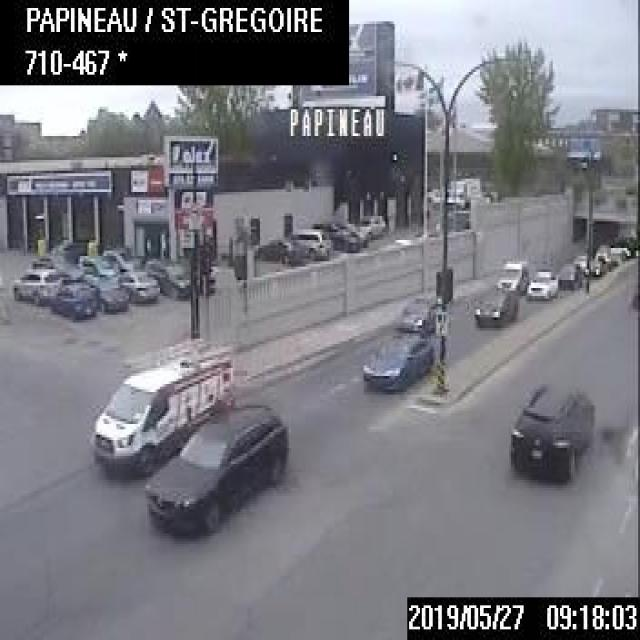vehicle: (87, 333, 236, 476), (141, 400, 289, 540), (507, 379, 595, 480), (360, 329, 434, 392), (469, 286, 519, 326), (50, 279, 94, 321), (82, 273, 127, 314), (11, 265, 58, 303), (146, 257, 189, 298), (114, 269, 162, 305), (314, 218, 362, 249), (287, 226, 331, 259), (398, 291, 433, 331), (252, 237, 303, 264), (493, 258, 525, 296), (442, 175, 481, 205), (524, 267, 558, 299), (76, 252, 117, 275), (554, 261, 582, 290), (357, 211, 383, 239)
